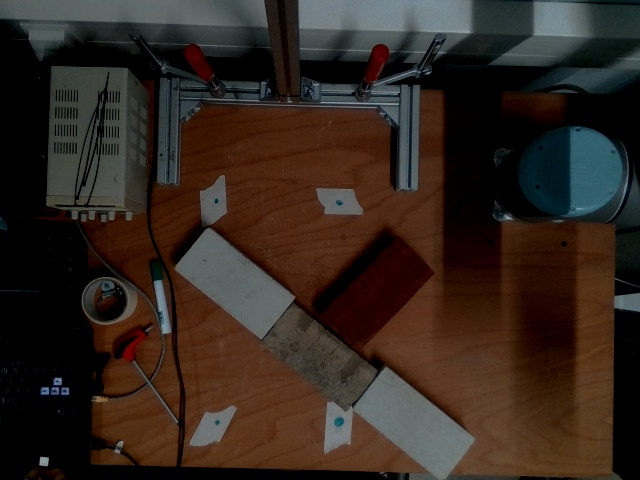brick: (173, 226, 293, 338), (352, 368, 472, 479), (320, 235, 435, 350), (263, 305, 377, 412)
